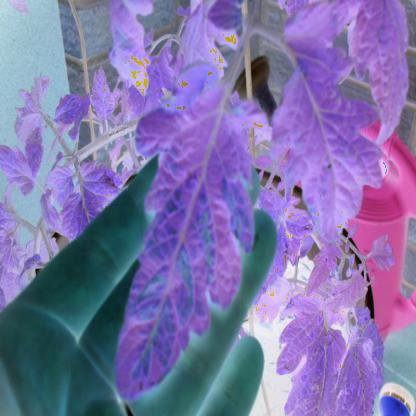tomato leaf bacterial spot: (106, 62, 261, 404), (264, 17, 363, 253)
